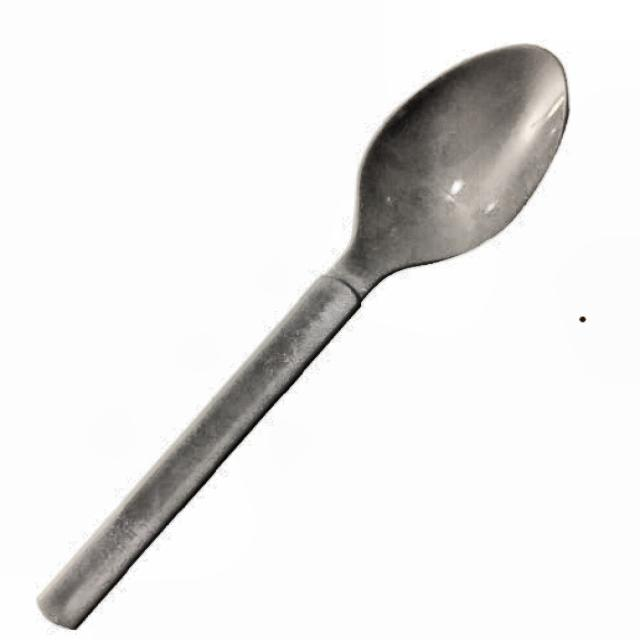plastic utensil: (32, 48, 570, 637)
